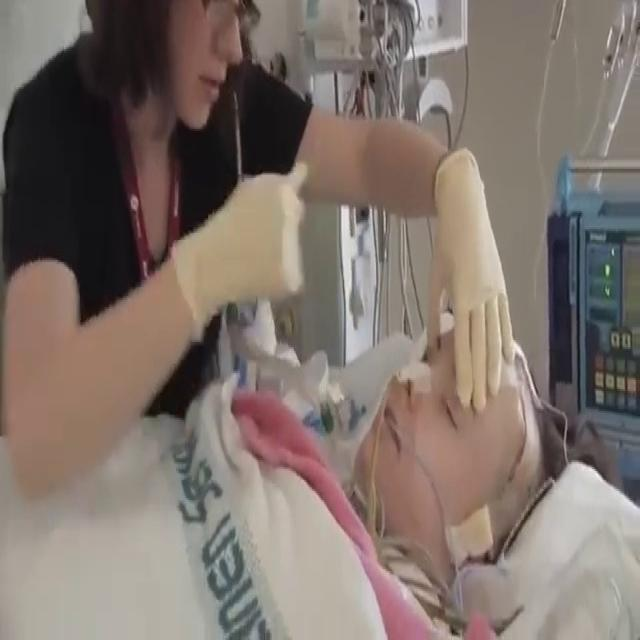monitor: (546, 155, 639, 458)
nurse: (1, 0, 348, 382)
patient: (349, 311, 547, 636)
